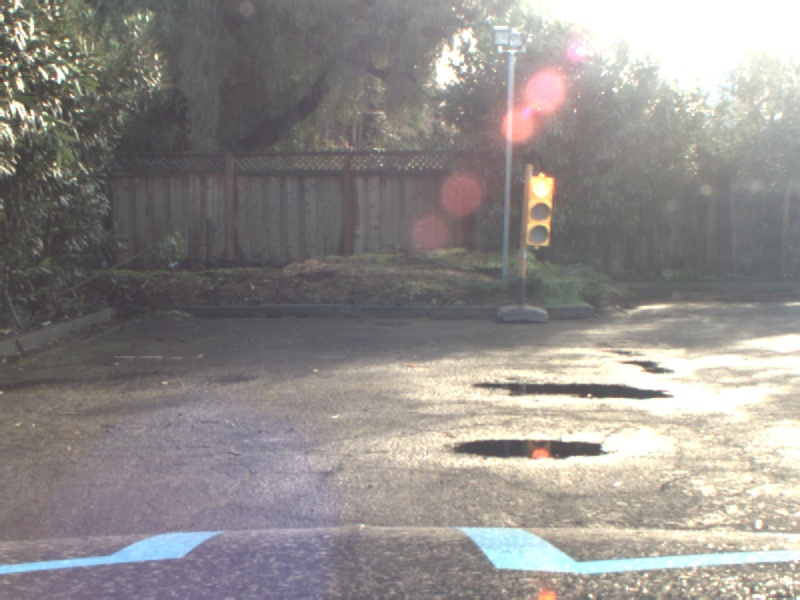Red: (526, 175, 554, 247)
